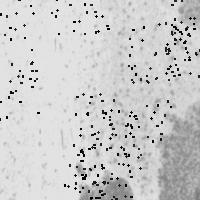pitted_surface: (76, 1, 153, 173), (155, 104, 200, 198), (76, 93, 135, 153), (128, 23, 188, 81), (111, 100, 170, 156), (73, 109, 130, 166), (80, 147, 140, 200), (155, 0, 200, 55), (64, 163, 122, 200), (0, 61, 37, 118), (165, 17, 200, 76), (51, 0, 110, 33), (0, 0, 32, 49), (77, 176, 138, 200), (168, 1, 200, 30)
